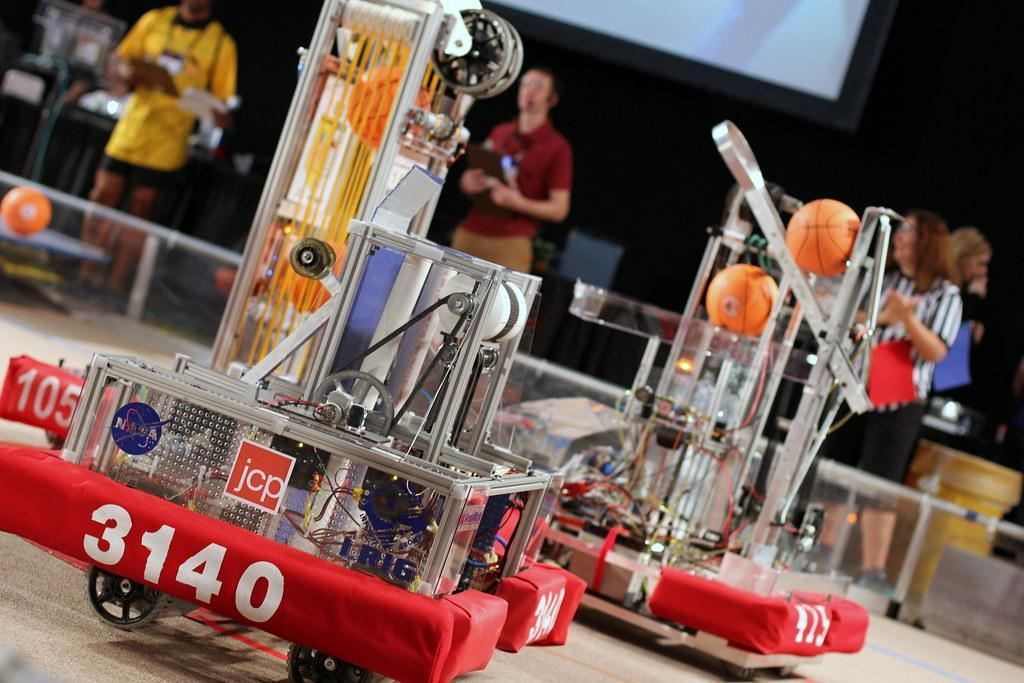robot: (0, 0, 592, 683), (0, 3, 536, 479), (513, 102, 922, 683)
